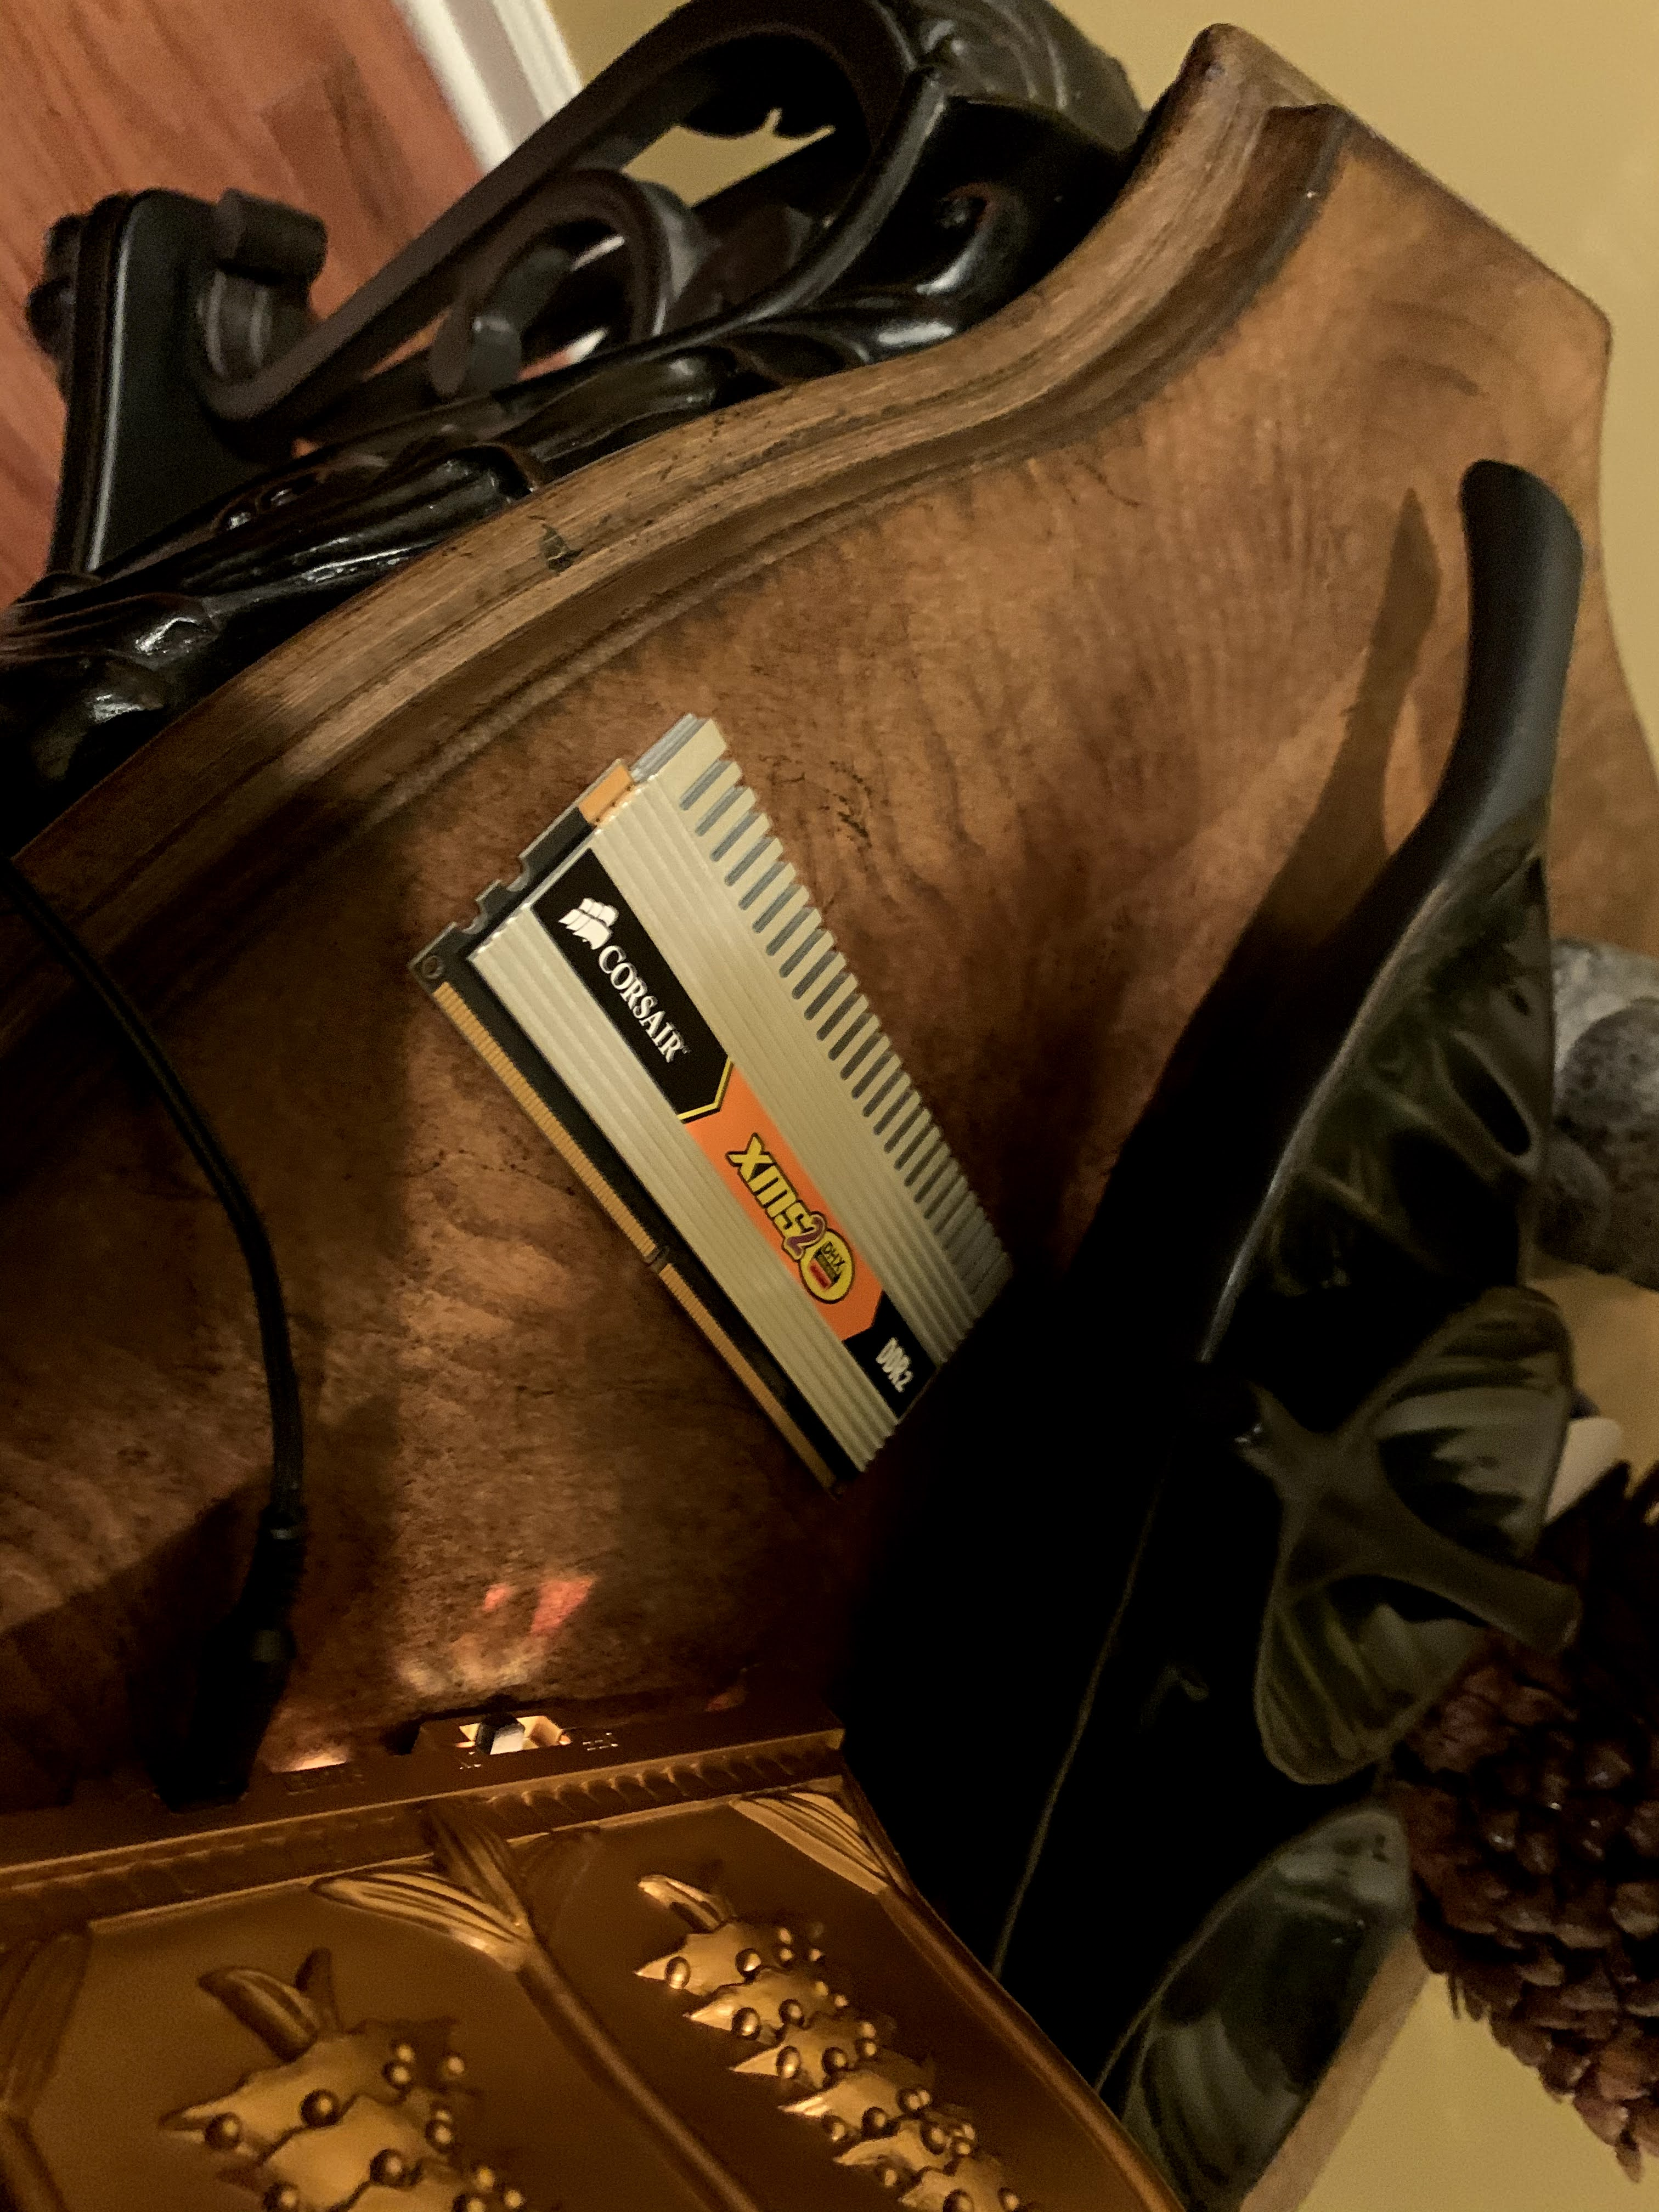Space-debris-medium: (437, 639, 1042, 1512)
